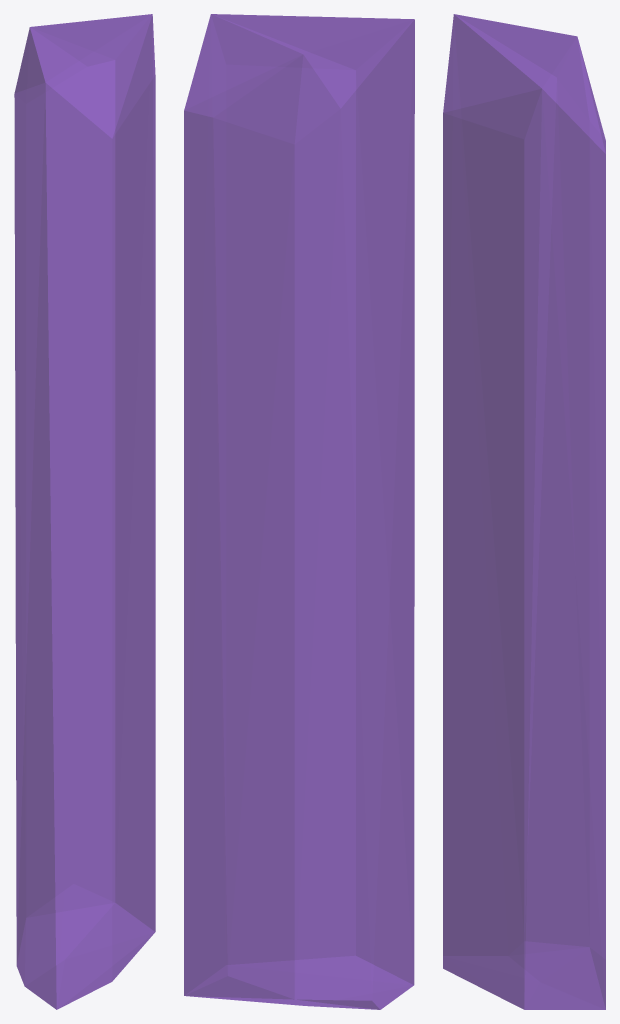
3 renders of one model, left to right at view 1: azimuth 30°, elevation 25°; view 2: azimuth 150°, elevation 25°; view 3: azimuth 270°, elevation 25°, orthographic. The views are drawn at different scales.
Visible parts, largest first — view 1: Shape_IndexedFaceSet.022_Shape_IndexedFaceSet.18083; view 2: Shape_IndexedFaceSet.022_Shape_IndexedFaceSet.18083; view 3: Shape_IndexedFaceSet.022_Shape_IndexedFaceSet.18083.
Boxes of the visible parts, box(x1,y1,x2,y2) form: Shape_IndexedFaceSet.022_Shape_IndexedFaceSet.18083: box(14, 14, 155, 1009); Shape_IndexedFaceSet.022_Shape_IndexedFaceSet.18083: box(184, 14, 414, 1009); Shape_IndexedFaceSet.022_Shape_IndexedFaceSet.18083: box(443, 14, 605, 1009).
Size of the model in its own units: 0.032 by 0.188 by 0.0295.
